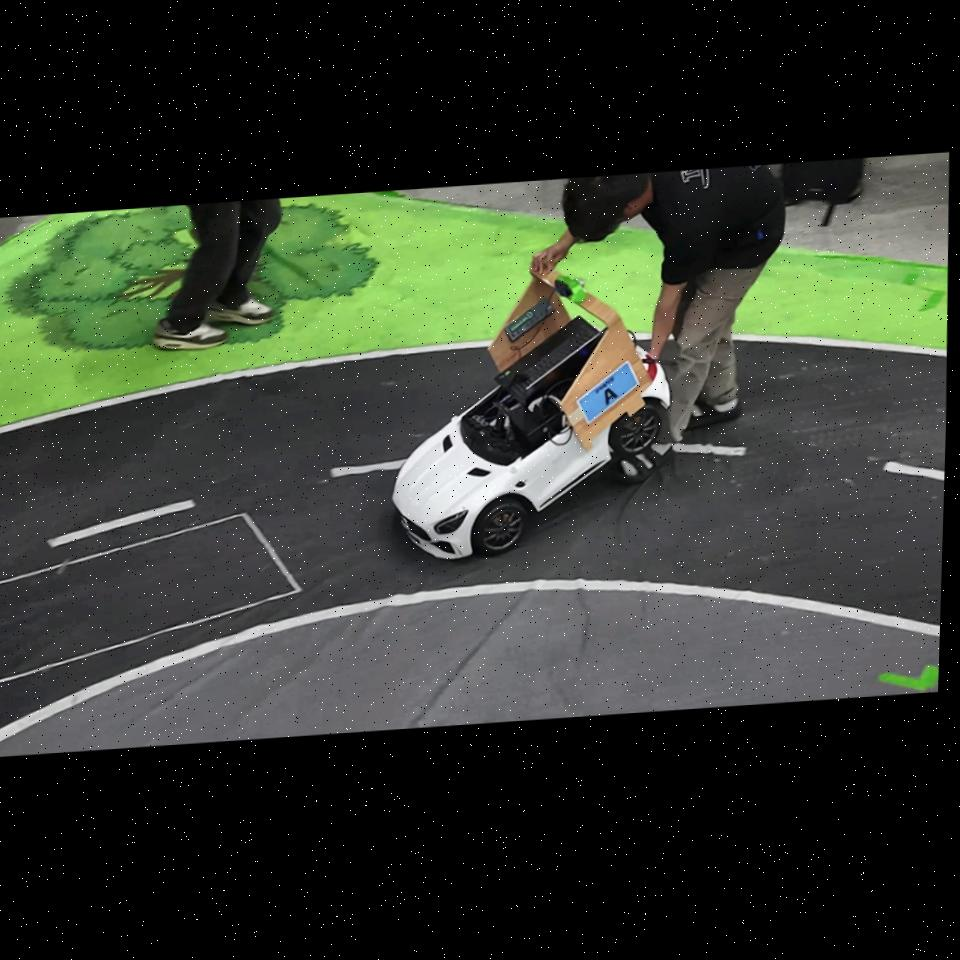broken_line: (48, 500, 195, 547), (331, 459, 409, 478), (883, 461, 945, 481), (673, 443, 747, 456)
